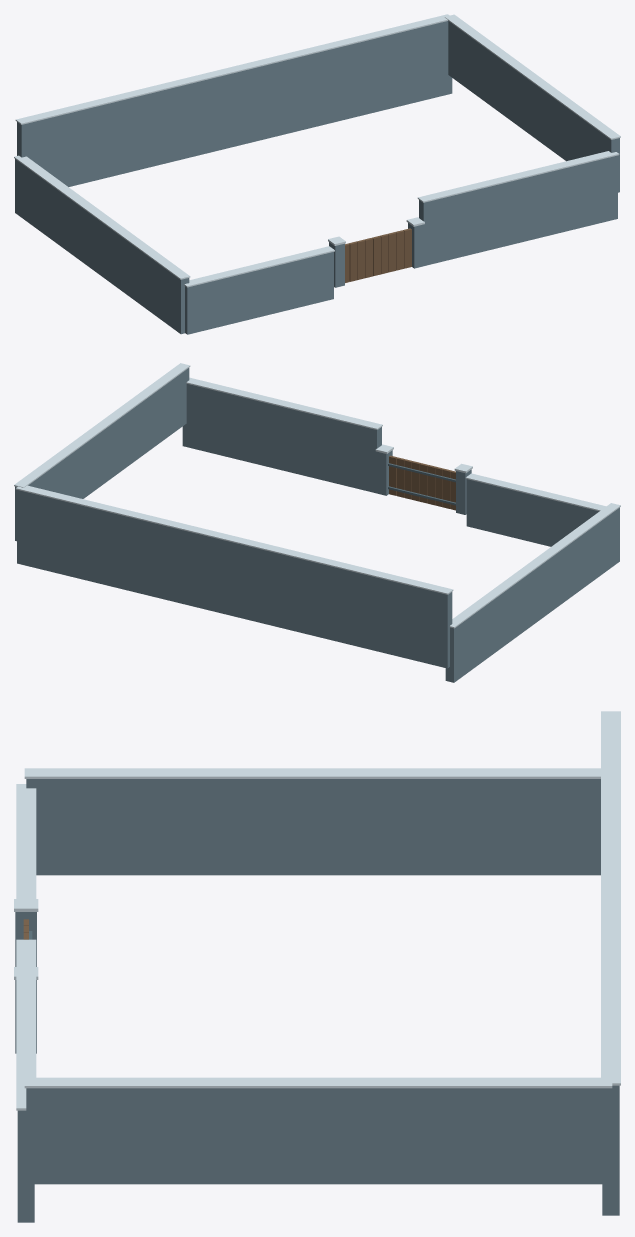
Rendered from mountain_gate.glb.
The picture shows the model from 3 angles, top to bottom: view 1: azimuth 30°, elevation 25°; view 2: azimuth 150°, elevation 25°; view 3: azimuth 270°, elevation 25°; orthographic projection. The views are drawn at different scales.
Parts seen in each view (by area): view 1: CourtWall_4, CourtWall_1, CourtWall_2, CourtWall_3, CourtWall_0, WallSnow_4, WallSnow_3, WallSnow_2, WallSnow_1, WallSnow_0, GatePillar_3.3, GatePillar_-3.3; view 2: CourtWall_4, CourtWall_1, CourtWall_2, CourtWall_3, CourtWall_0, WallSnow_4, WallSnow_3, WallSnow_2, WallSnow_1, WallSnow_0, GatePillar_3.3, GatePillar_-3.3; view 3: CourtWall_3, CourtWall_2, WallSnow_4, WallSnow_3, WallSnow_2, WallSnow_1, WallSnow_0, CourtWall_4, CourtWall_1.
Part boxes in pixels (left/top/right/bottom): CourtWall_4: left=17, top=21, right=452, bottom=186; CourtWall_1: left=419, top=155, right=617, bottom=265; CourtWall_2: left=15, top=159, right=189, bottom=334; CourtWall_3: left=448, top=21, right=619, bottom=192; CourtWall_0: left=185, top=252, right=333, bottom=334; WallSnow_4: left=15, top=14, right=449, bottom=124; WallSnow_3: left=445, top=14, right=620, bottom=139; WallSnow_2: left=14, top=155, right=190, bottom=279; WallSnow_1: left=417, top=151, right=619, bottom=202; WallSnow_0: left=184, top=246, right=334, bottom=287; GatePillar_3.3: left=408, top=223, right=423, bottom=268; GatePillar_-3.3: left=329, top=242, right=344, bottom=287; CourtWall_4: left=17, top=490, right=452, bottom=668; CourtWall_1: left=182, top=384, right=381, bottom=493; CourtWall_2: left=445, top=507, right=619, bottom=682; CourtWall_3: left=15, top=368, right=189, bottom=541; CourtWall_0: left=466, top=479, right=599, bottom=546; WallSnow_4: left=15, top=485, right=453, bottom=594; WallSnow_3: left=14, top=363, right=190, bottom=487; WallSnow_2: left=449, top=503, right=620, bottom=628; WallSnow_1: left=186, top=377, right=382, bottom=429; WallSnow_0: left=465, top=473, right=605, bottom=511; GatePillar_3.3: left=377, top=450, right=392, bottom=495; GatePillar_-3.3: left=456, top=469, right=471, bottom=514; CourtWall_3: left=26, top=1088, right=610, bottom=1184; CourtWall_2: left=26, top=779, right=600, bottom=875; WallSnow_4: left=601, top=711, right=620, bottom=1085; WallSnow_3: left=24, top=1077, right=612, bottom=1088; WallSnow_2: left=24, top=768, right=600, bottom=778; WallSnow_1: left=16, top=939, right=36, bottom=1110; WallSnow_0: left=16, top=784, right=36, bottom=898; CourtWall_4: left=602, top=1085, right=619, bottom=1215; CourtWall_1: left=17, top=1110, right=34, bottom=1222.
Bounding box in the file's own units: 36.82 × 7.26 × 24.91.
